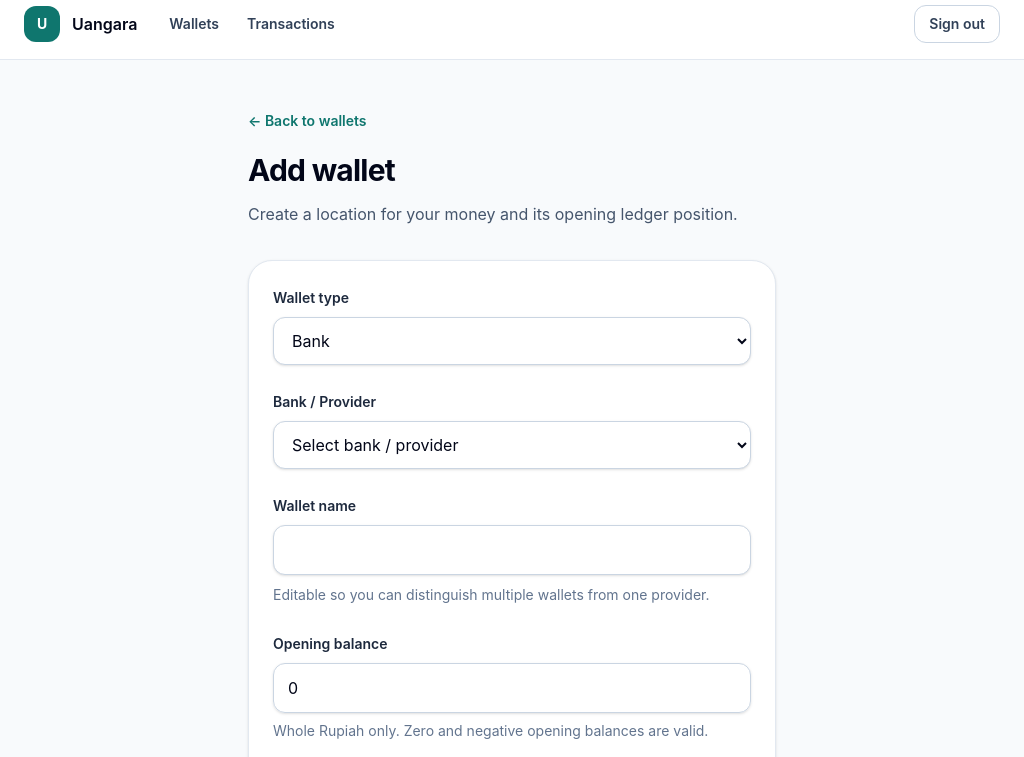
wallet management flow › requires a provider value after Other Bank is selected
Select "Other Bank" in the dropdown labelled "Bank / Provider" at [512, 445], box [273,421,751,469]
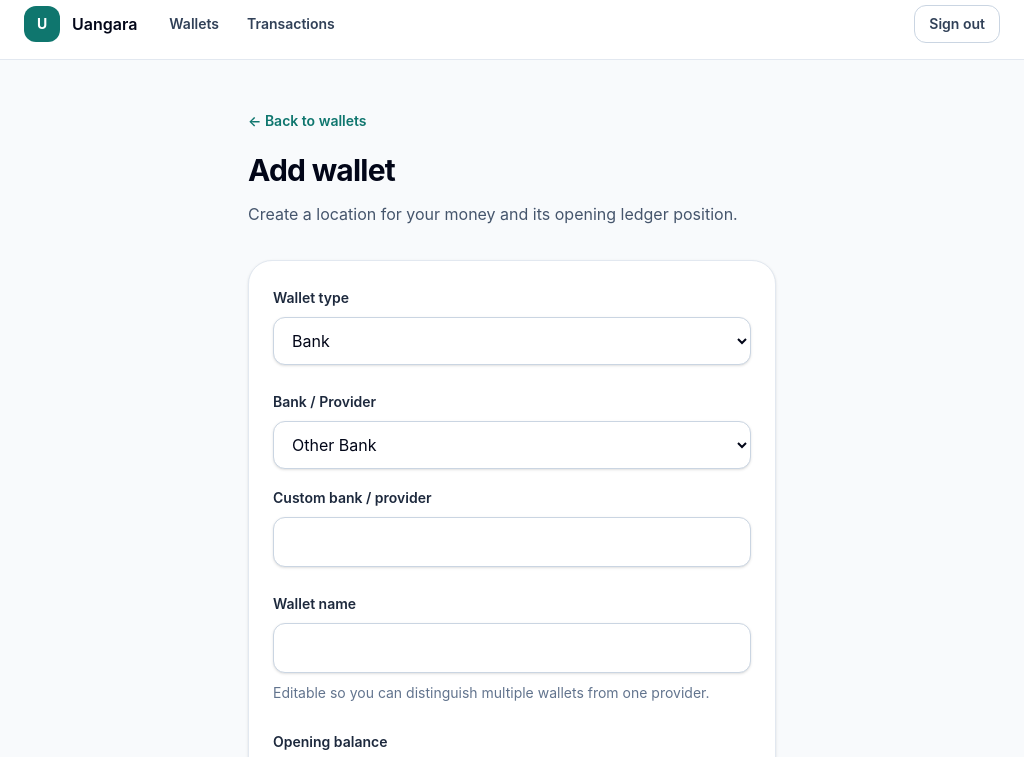
Type "Custom bank wallet" into the field labelled "Wallet name" at [512, 648], box [273,623,751,673]
(page scrolled)
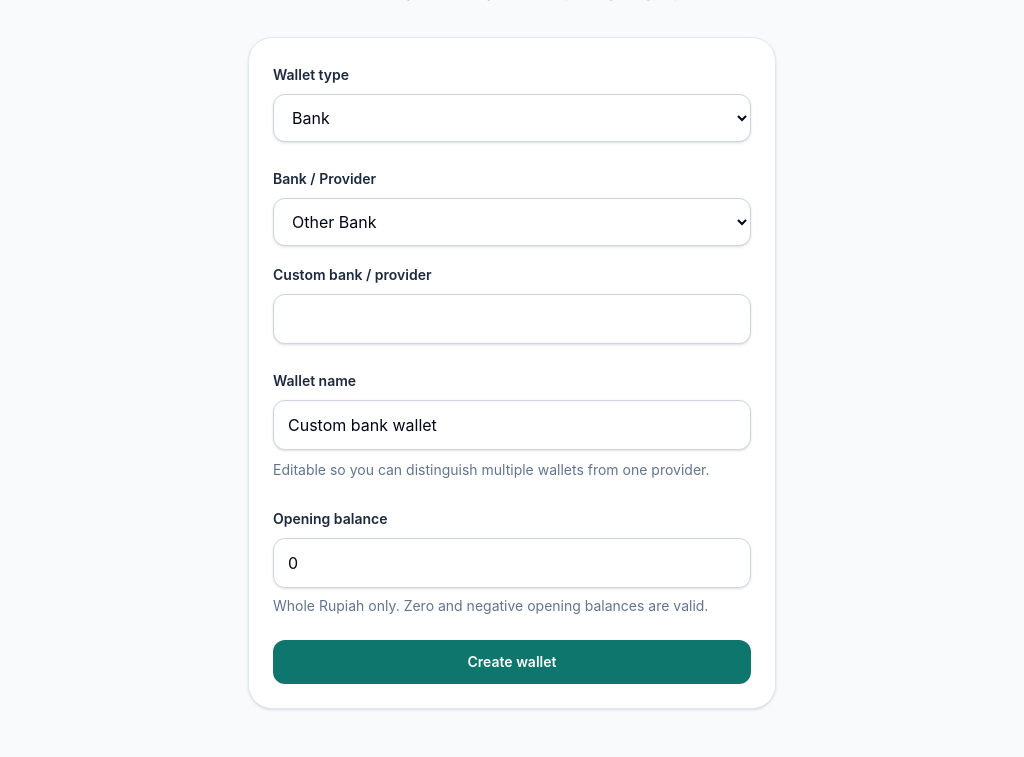
Click the button "Create wallet" at [512, 662], box [273,640,751,684]
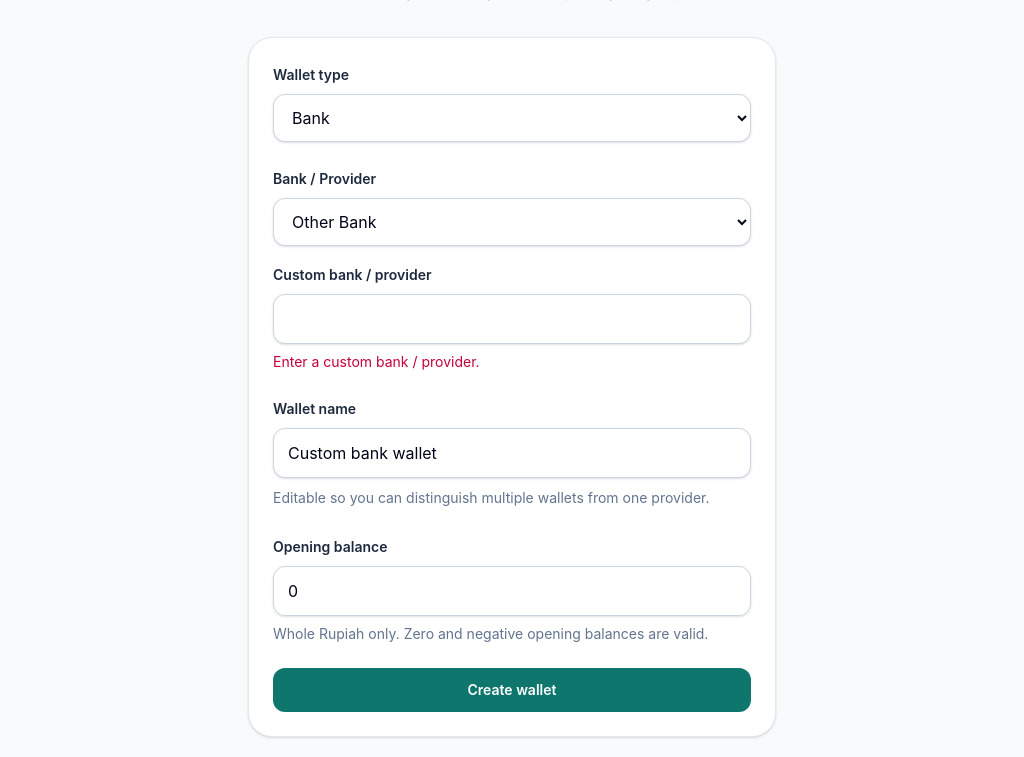
Check: the text "Enter a custom bank / provider." is shown, box [273,353,480,370]
